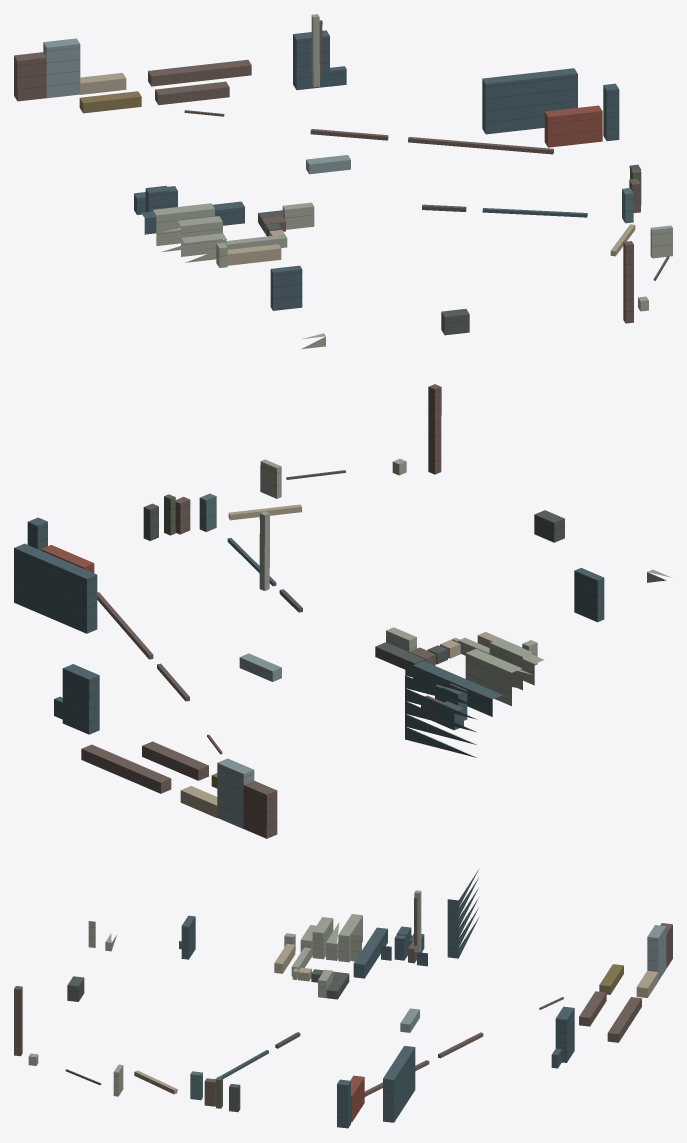
The model's file is terminal-62---32_9.glb.
The picture shows the model from 3 angles, top to bottom: view 1: azimuth 30°, elevation 25°; view 2: azimuth 150°, elevation 25°; view 3: azimuth 270°, elevation 25°; orthographic projection. The views are drawn at different scales.
Parts seen in each view (by area): view 1: measured-industrial; view 2: measured-industrial; view 3: measured-industrial.
Boxes of the visible parts, x1=… form: measured-industrial: x1=14, y1=14, x2=672, y2=349; measured-industrial: x1=14, y1=384, x2=671, y2=838; measured-industrial: x1=14, y1=869, x2=672, y2=1128.
Bounding box in the file's own units: 131 × 39.55 × 179.
